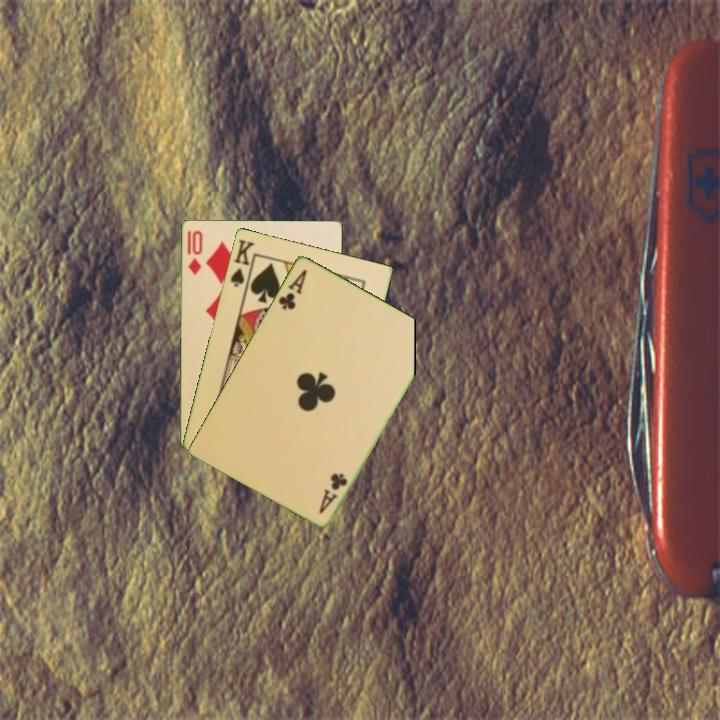10d: (184, 227, 205, 277)
Ac: (275, 265, 310, 312), (315, 469, 350, 516)
Ks: (226, 235, 257, 293)
